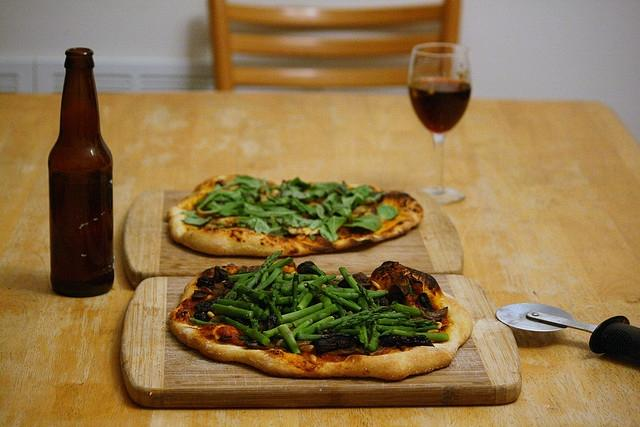asparagus: (316, 306, 392, 331), (303, 282, 362, 312), (218, 314, 270, 346), (332, 312, 411, 332), (237, 267, 282, 302), (246, 250, 283, 289), (292, 304, 338, 328), (296, 278, 324, 311), (282, 302, 324, 324), (296, 276, 324, 306), (380, 329, 450, 341), (296, 315, 335, 336), (260, 290, 284, 320), (210, 303, 254, 319), (278, 324, 301, 354), (224, 275, 248, 301), (330, 290, 387, 300), (377, 318, 439, 327), (280, 280, 314, 296), (338, 266, 359, 290), (217, 298, 255, 310), (238, 284, 266, 300), (309, 290, 332, 308), (393, 304, 425, 316), (368, 320, 380, 352), (356, 284, 374, 304), (284, 274, 319, 284), (324, 287, 378, 293), (188, 317, 218, 326), (352, 324, 366, 343), (298, 333, 330, 341), (291, 281, 299, 312), (376, 325, 416, 331), (228, 272, 258, 280), (291, 273, 299, 297), (311, 265, 327, 276), (250, 316, 261, 330), (259, 303, 266, 309), (368, 334, 372, 342), (369, 302, 374, 308), (276, 305, 279, 310)
